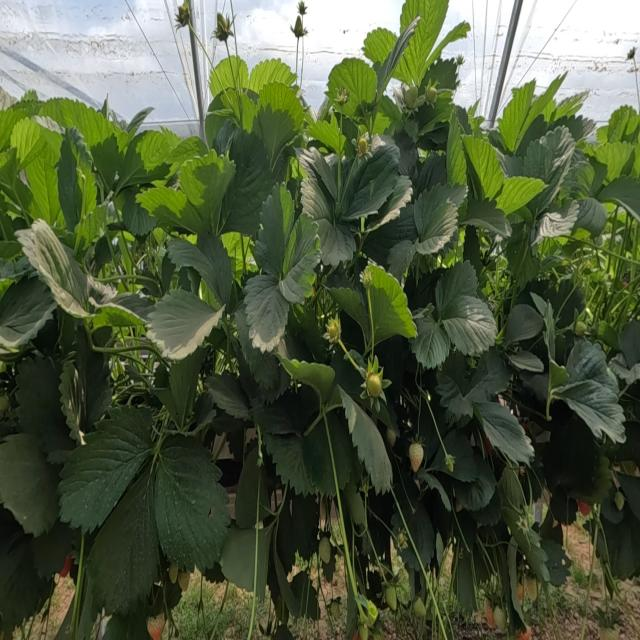Flowers: (297, 1, 306, 17), (455, 54, 463, 66)
Leaves: (59, 407, 154, 532), (88, 463, 159, 614), (155, 435, 230, 570), (0, 505, 52, 633), (560, 344, 624, 442), (16, 356, 74, 461), (17, 227, 87, 312), (1, 433, 59, 535), (542, 403, 598, 502), (497, 73, 566, 151), (220, 131, 270, 238), (301, 170, 355, 266), (338, 135, 399, 219), (148, 289, 219, 359), (340, 397, 391, 493), (391, 454, 434, 567), (391, 1, 447, 87), (523, 127, 575, 218), (437, 279, 496, 355), (167, 235, 231, 305), (302, 412, 354, 495), (1, 277, 55, 351), (180, 157, 234, 229), (365, 265, 414, 344), (75, 325, 111, 430), (235, 305, 280, 389), (116, 130, 179, 190), (475, 401, 534, 463), (414, 184, 467, 253), (25, 130, 63, 226), (243, 273, 289, 352), (255, 184, 294, 277), (58, 140, 96, 231), (136, 185, 207, 233), (363, 204, 417, 265), (277, 492, 319, 570), (281, 215, 319, 299), (264, 434, 316, 495), (60, 99, 115, 154), (601, 503, 640, 580), (169, 347, 205, 427), (252, 389, 313, 435), (327, 58, 376, 115), (498, 81, 535, 151), (462, 136, 503, 199), (436, 352, 473, 421), (326, 287, 369, 345), (469, 348, 511, 407), (219, 524, 255, 590), (32, 520, 74, 576), (457, 450, 495, 511), (257, 106, 295, 167), (410, 309, 449, 367), (506, 225, 539, 292), (205, 372, 250, 419), (235, 440, 259, 527), (93, 292, 154, 326), (258, 83, 303, 127), (283, 361, 335, 398), (442, 430, 479, 482), (495, 177, 543, 215), (599, 176, 639, 220), (463, 200, 510, 236), (535, 200, 578, 238), (10, 119, 44, 167), (250, 59, 294, 96), (165, 136, 207, 174), (504, 305, 543, 345), (594, 142, 633, 182), (122, 194, 157, 238), (446, 111, 467, 183), (416, 397, 439, 461), (210, 56, 247, 95), (290, 570, 319, 619), (541, 539, 571, 586), (386, 240, 415, 284), (573, 198, 607, 235), (417, 153, 446, 194), (206, 95, 230, 144), (362, 28, 395, 63), (395, 135, 418, 184), (1, 106, 25, 149), (618, 320, 640, 366), (618, 473, 640, 519), (556, 115, 594, 141), (609, 354, 640, 384), (510, 350, 543, 372), (432, 448, 442, 471), (0, 151, 8, 168)
Strawberries: (409, 442, 423, 471), (147, 614, 163, 639), (366, 373, 382, 397), (493, 606, 507, 632), (176, 2, 190, 27), (319, 536, 331, 564), (402, 86, 417, 108), (524, 576, 538, 599), (325, 320, 339, 341), (384, 585, 395, 610), (413, 597, 425, 618), (178, 572, 190, 591), (330, 600, 339, 619), (426, 86, 436, 103), (575, 321, 587, 335), (0, 395, 9, 412), (358, 139, 367, 155)
